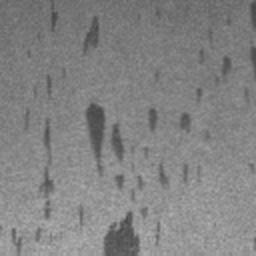Red iron sheet: (84, 102, 189, 256), (197, 0, 256, 101), (23, 109, 54, 219), (148, 108, 191, 132), (9, 227, 41, 256), (82, 15, 100, 54), (50, 0, 59, 31), (46, 74, 52, 96), (79, 204, 84, 227)
